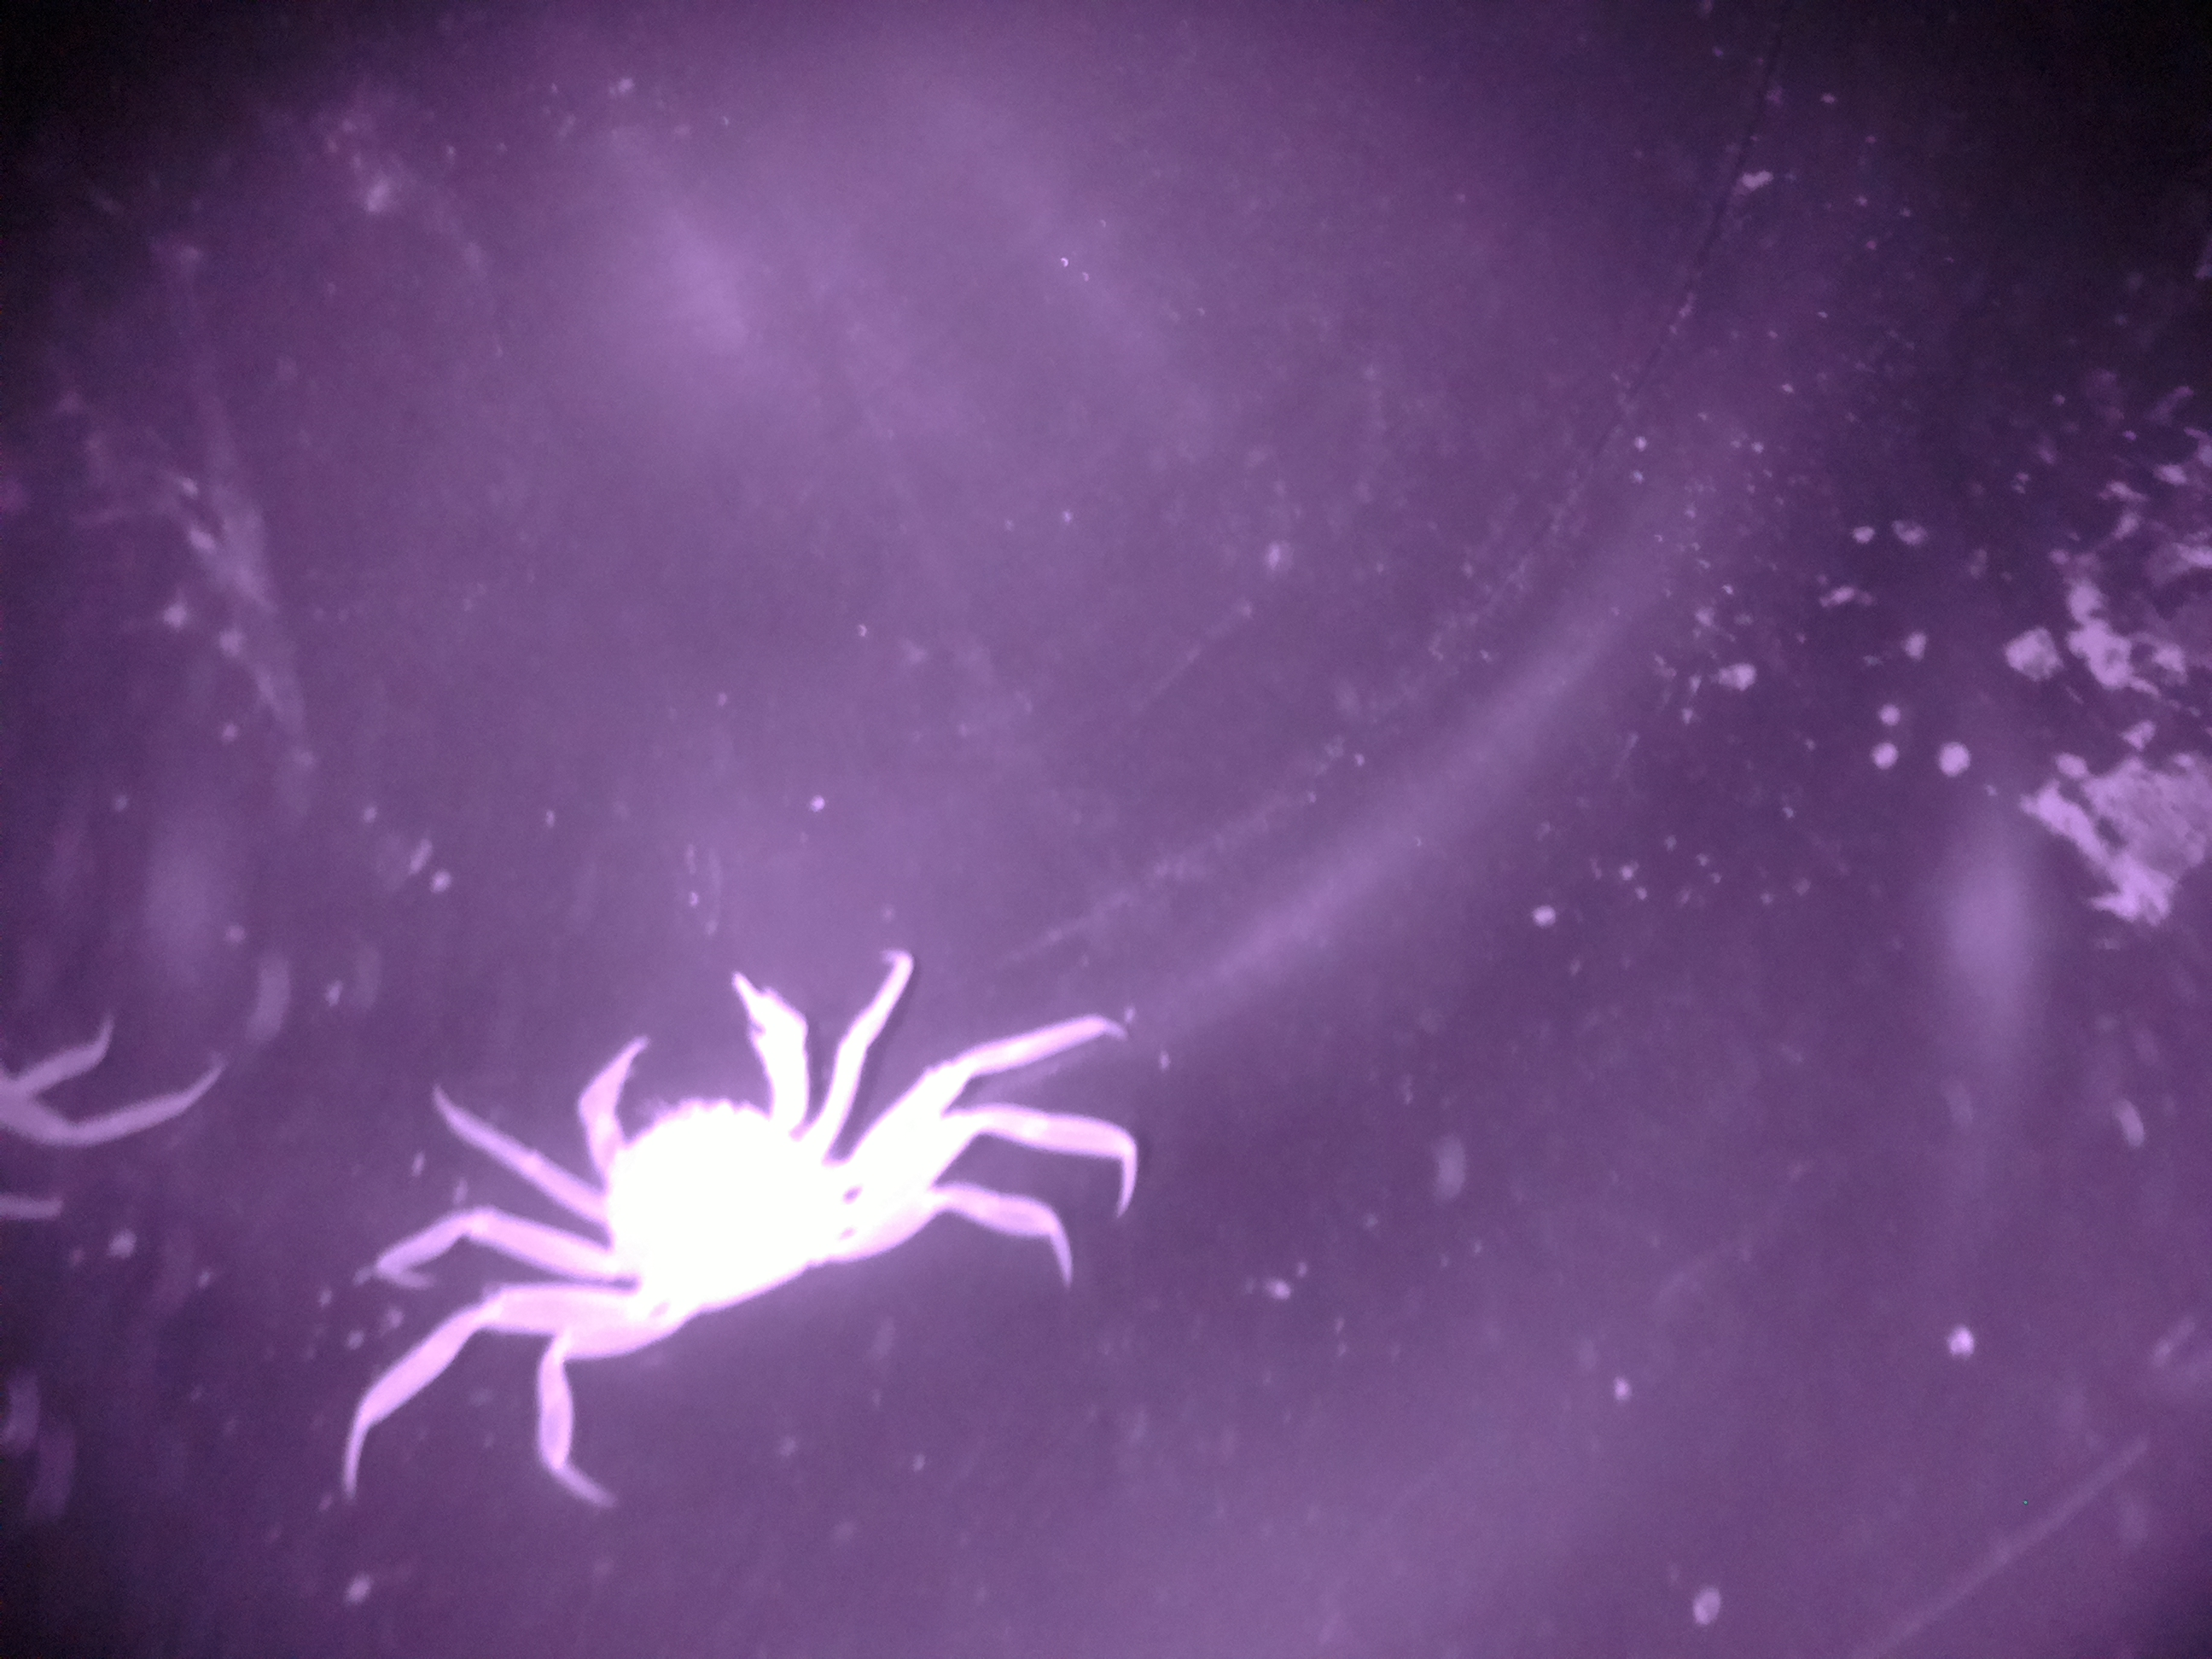Crab: (486, 946, 963, 1377)
